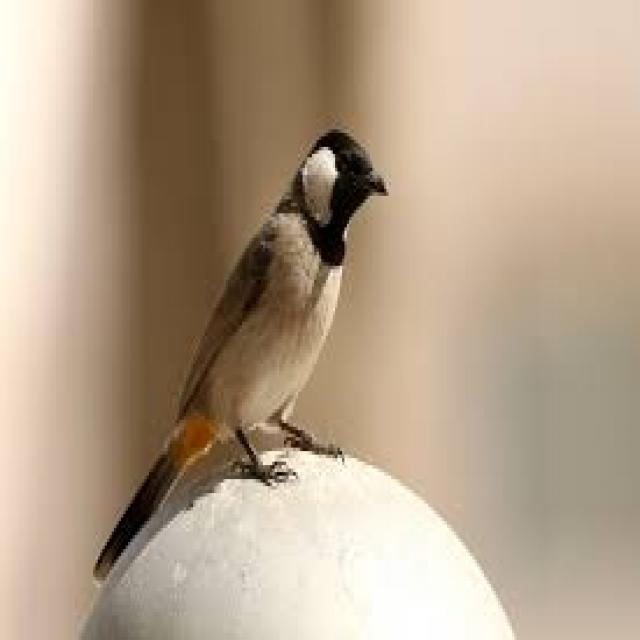bird: (84, 118, 392, 583)
